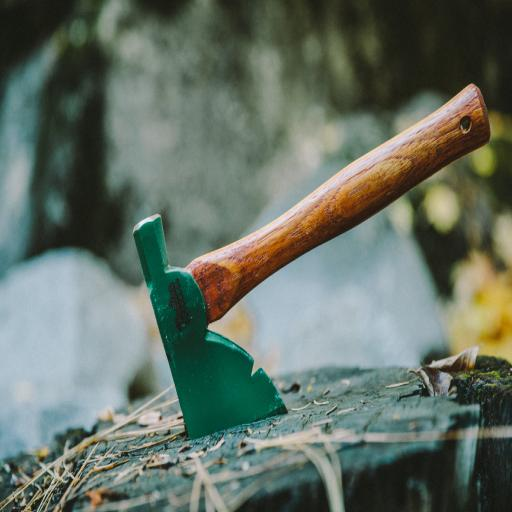Axe: (131, 80, 493, 440)
